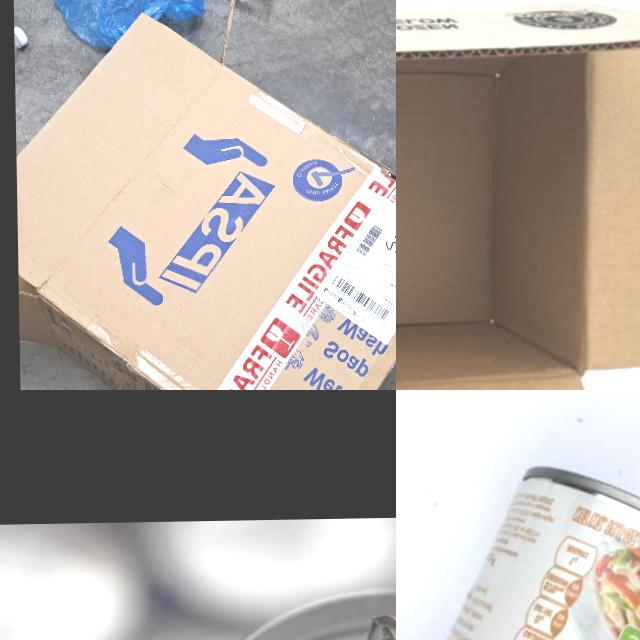aba de lata: (14, 16, 28, 46)
lata: (396, 461, 640, 640)
papelão: (14, 0, 396, 390), (396, 0, 640, 390)
sacola plástica: (21, 0, 208, 48)
